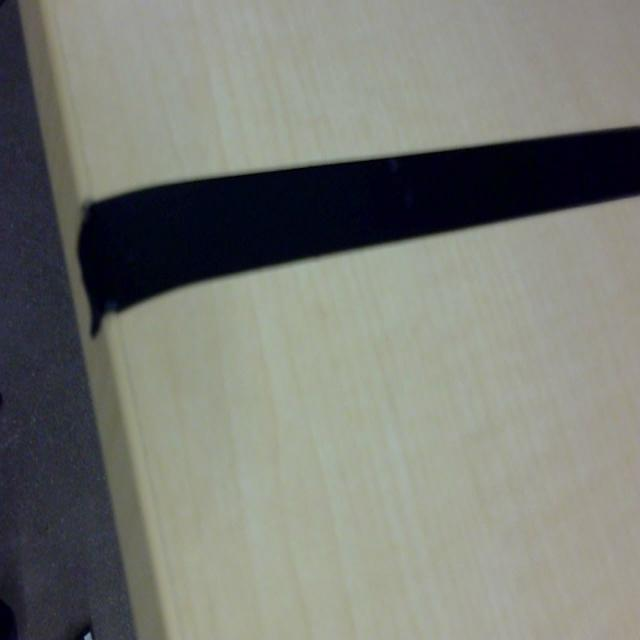tape: (70, 108, 640, 380)
